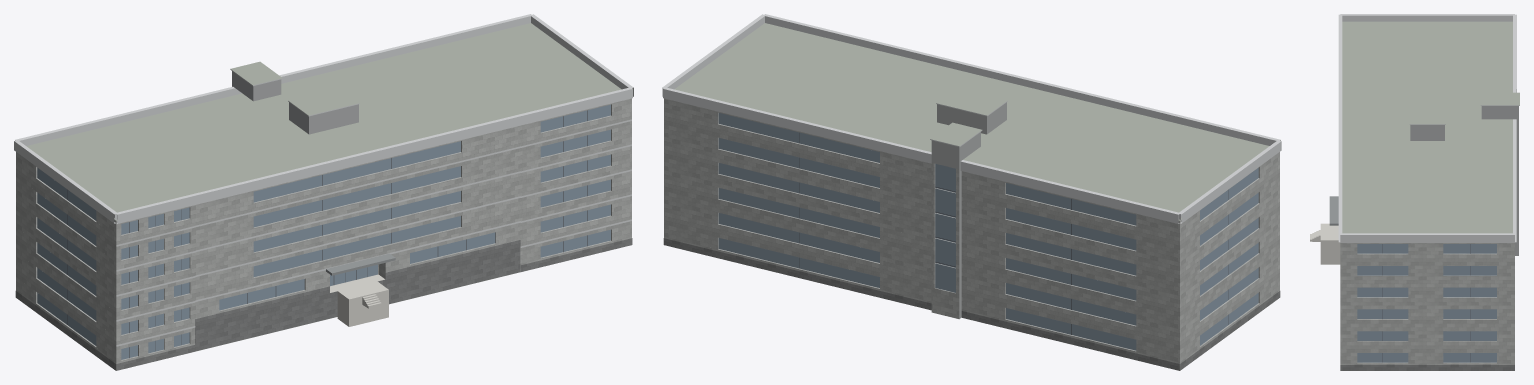
3 views of the same model, side by side, from view 1: azimuth 30°, elevation 25°; view 2: azimuth 150°, elevation 25°; view 3: azimuth 270°, elevation 25° (orthographic). The views are drawn at different scales.
Visible parts, largest first — view 1: b37__wall, b37__roof, b37__glass, b37__trim, b37__base, b37__entranceStair, b37__wall2, b37__frame, b37__canopy; view 2: b37__wall, b37__roof, b37__glass, b37__trim, b37__base, b37__wall2; view 3: b37__roof, b37__wall, b37__glass, b37__trim, b37__wall2, b37__base, b37__entranceStair, b37__canopy.
Part boxes in pixels (left/top/right/bottom): b37__wall: left=16, top=98, right=631, bottom=370; b37__roof: left=26, top=23, right=621, bottom=351; b37__glass: left=37, top=104, right=610, bottom=359; b37__trim: left=14, top=14, right=633, bottom=346; b37__base: left=15, top=238, right=632, bottom=370; b37__entranceStair: left=330, top=274, right=388, bottom=326; b37__wall2: left=232, top=71, right=358, bottom=134; b37__frame: left=67, top=110, right=587, bottom=358; b37__canopy: left=326, top=253, right=395, bottom=275; b37__wall: left=664, top=98, right=1279, bottom=370; b37__roof: left=674, top=23, right=1269, bottom=220; b37__glass: left=718, top=113, right=1258, bottom=350; b37__trim: left=662, top=14, right=1281, bottom=223; b37__base: left=663, top=238, right=1280, bottom=370; b37__wall2: left=931, top=102, right=1006, bottom=318; b37__roof: left=1342, top=21, right=1519, bottom=233; b37__wall: left=1340, top=243, right=1514, bottom=364; b37__glass: left=1357, top=244, right=1496, bottom=362; b37__trim: left=1338, top=14, right=1519, bottom=242; b37__wall2: left=1410, top=106, right=1518, bottom=255; b37__base: left=1340, top=365, right=1514, bottom=370; b37__entranceStair: left=1310, top=223, right=1340, bottom=264; b37__canopy: left=1329, top=196, right=1338, bottom=225.
Bounding box in the file's own units: 78.27 × 25.29 × 31.43.
10 materials, 2 textured.
